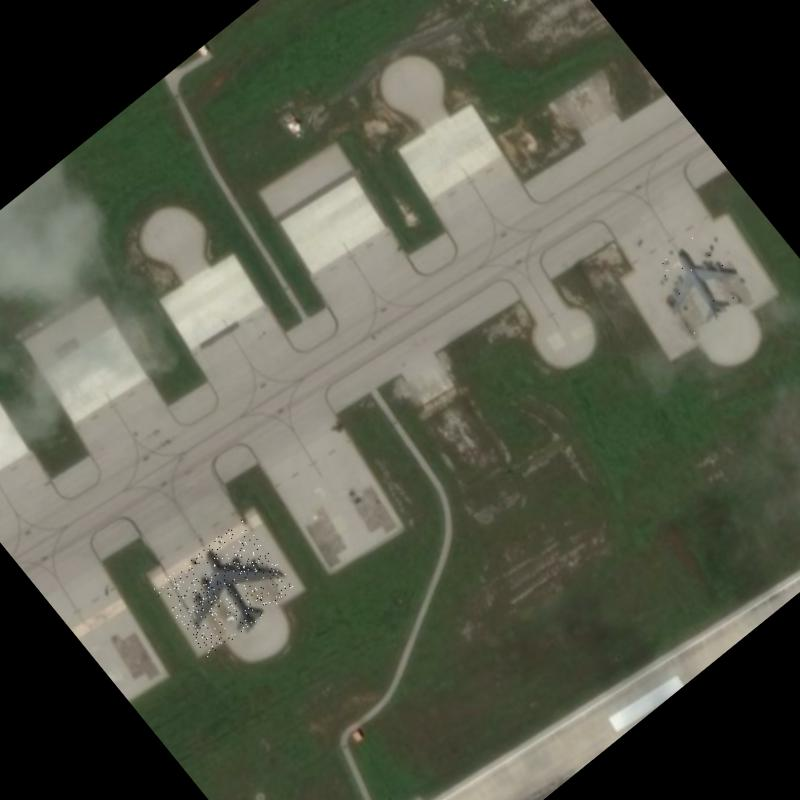A14: (640, 225, 753, 338)
A8: (153, 518, 297, 658)
